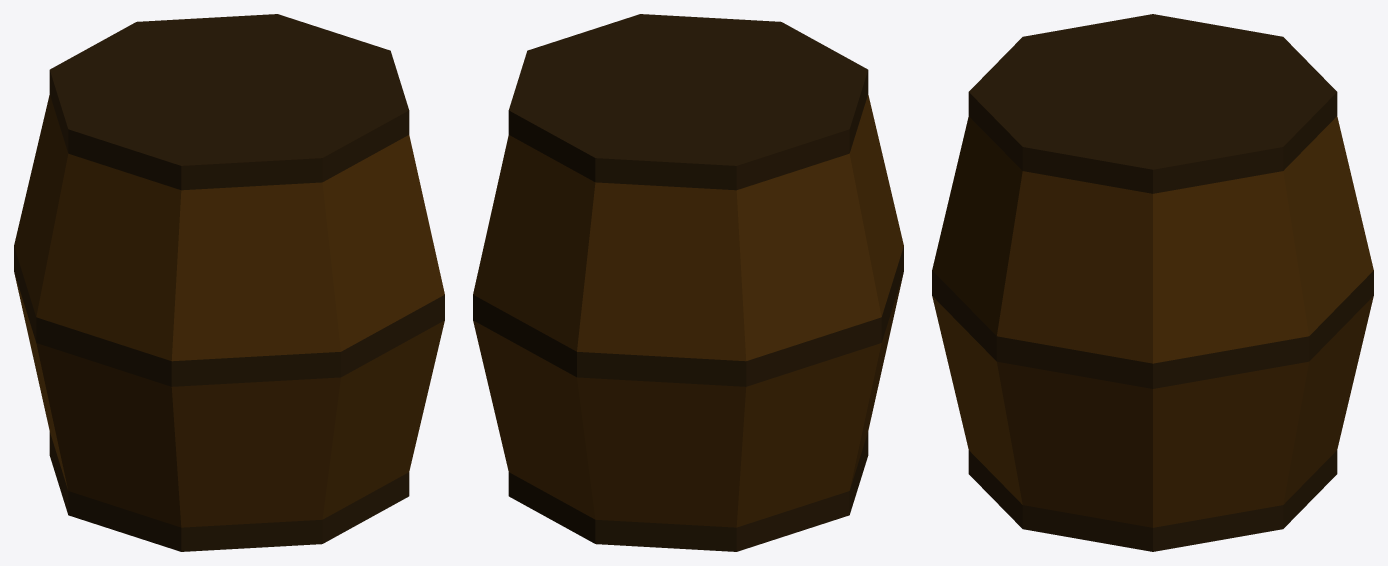
File: Barrel.fbx
The picture shows the model from 3 angles, left to right: view 1: azimuth 30°, elevation 25°; view 2: azimuth 150°, elevation 25°; view 3: azimuth 270°, elevation 25°; orthographic projection.
Visible parts, largest first — view 1: Cylinder.026; view 2: Cylinder.026; view 3: Cylinder.026.
Part boxes in pixels (left/top/right/bottom): Cylinder.026: left=14, top=14, right=444, bottom=551; Cylinder.026: left=473, top=14, right=903, bottom=551; Cylinder.026: left=932, top=14, right=1373, bottom=551.
Bounding box in the file's own units: 117 × 112 × 117.
